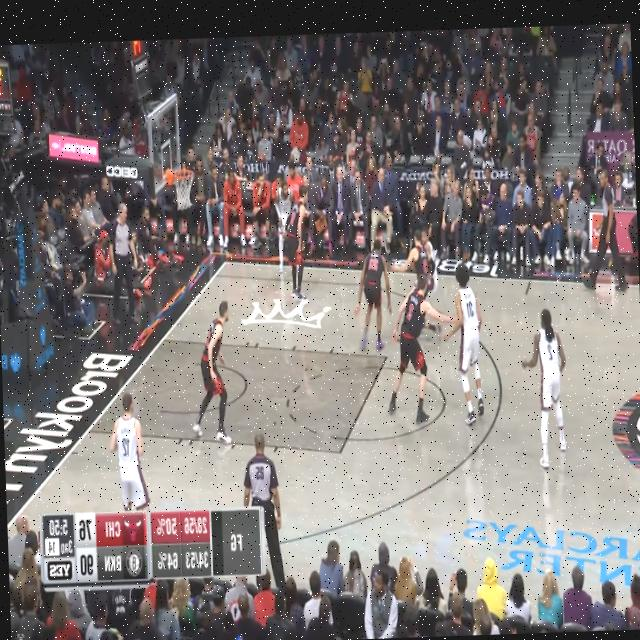no foul: (378, 262, 499, 424), (394, 219, 457, 342)
